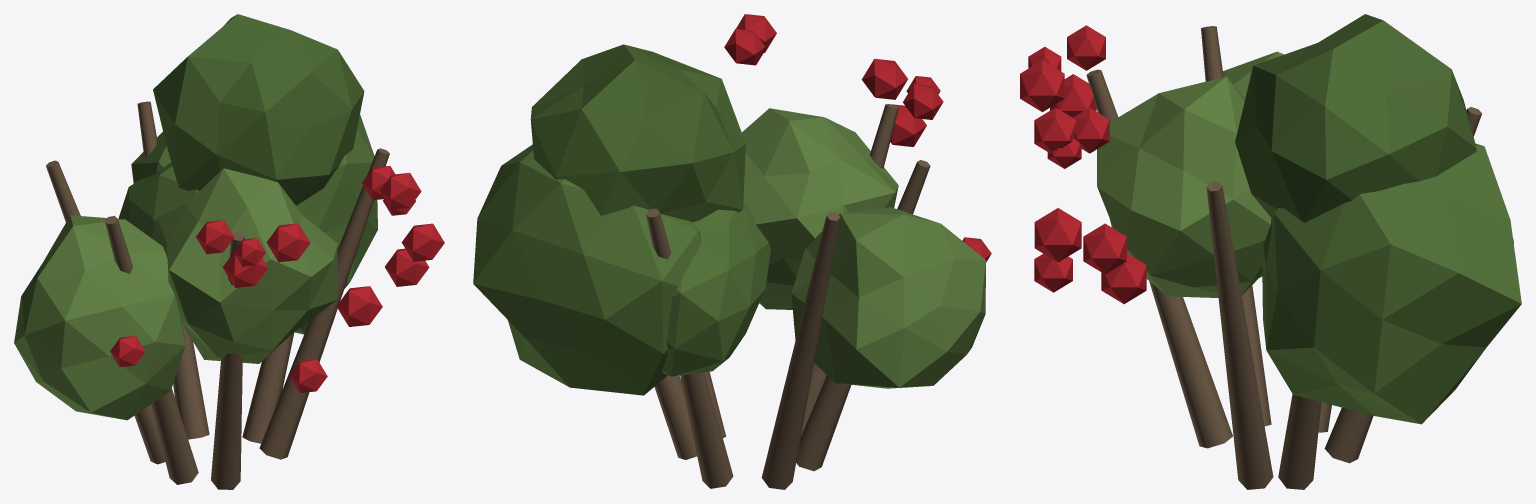
The model's file is kushch_kalyna.glb.
3 renders of one model, left to right at view 1: azimuth 30°, elevation 25°; view 2: azimuth 150°, elevation 25°; view 3: azimuth 270°, elevation 25°, orthographic. The views are drawn at different scales.
Visible parts, largest first — view 1: leaves (×5), trunk (×14), berries (×11); view 2: leaves (×5), trunk (×12), berries (×5); view 3: leaves (×4), trunk (×11), berries (×10).
Part boxes in pixels (left/top/right/bottom): leaves (×5): left=14, top=14, right=377, bottom=420; trunk (×14): left=46, top=101, right=389, bottom=489; berries (×11): left=110, top=166, right=444, bottom=392; leaves (×5): left=473, top=44, right=985, bottom=395; trunk (×12): left=646, top=104, right=930, bottom=489; berries (×5): left=724, top=14, right=943, bottom=146; leaves (×4): left=1097, top=14, right=1521, bottom=424; trunk (×11): left=1086, top=26, right=1373, bottom=489; berries (×10): left=1020, top=25, right=1146, bottom=303.
Bounding box in the file's own units: 2.1 × 2 × 1.92.
